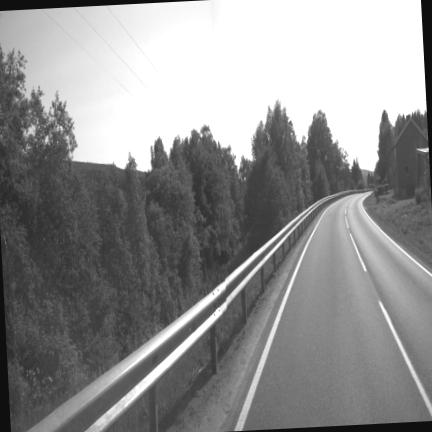Road: (236, 194, 431, 429)
